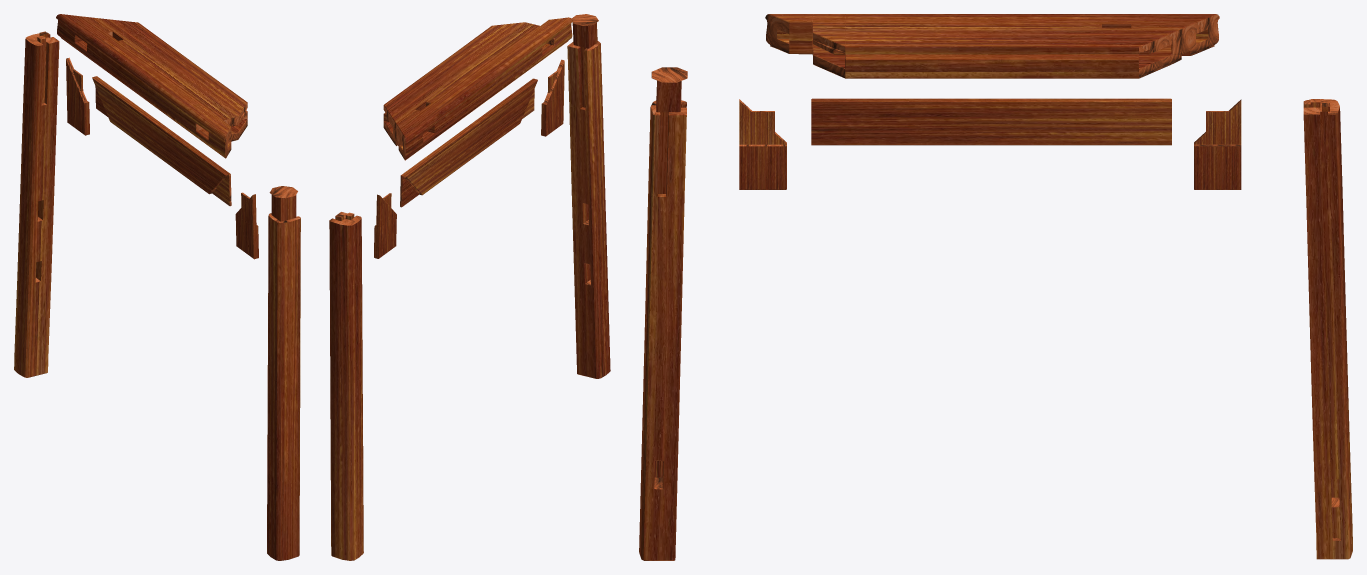
File: GMY_J_motou_02.FBX
3 renders of one model, left to right at view 1: azimuth 30°, elevation 25°; view 2: azimuth 150°, elevation 25°; view 3: azimuth 270°, elevation 25°, orthographic. The views are drawn at different scales.
Visible parts, largest first — view 1: GMY_J_houtui_02, GMY_J_qiantui_02, GMY_J_motou_02, GMY_J_houyatou_02_02, GMY_J_ceyatou_02_01, GMY_J_ceyatou_02_02; view 2: GMY_J_houtui_02, GMY_J_qiantui_02, GMY_J_motou_02, GMY_J_houyatou_02_02, GMY_J_ceyatou_02_02, GMY_J_ceyatou_02_01; view 3: GMY_J_motou_02, GMY_J_houtui_02, GMY_J_houyatou_02_02, GMY_J_qiantui_02, GMY_J_ceyatou_02_01, GMY_J_ceyatou_02_02.
Part boxes in pixels (x1,y1,x2,y2): GMY_J_houtui_02: (267, 186, 300, 560); GMY_J_qiantui_02: (14, 31, 59, 377); GMY_J_motou_02: (56, 14, 247, 158); GMY_J_houyatou_02_02: (92, 76, 231, 206); GMY_J_ceyatou_02_01: (66, 57, 89, 135); GMY_J_ceyatou_02_02: (235, 192, 258, 259); GMY_J_houtui_02: (567, 14, 610, 378); GMY_J_qiantui_02: (329, 212, 363, 560); GMY_J_motou_02: (383, 17, 573, 160); GMY_J_houyatou_02_02: (400, 78, 537, 207); GMY_J_ceyatou_02_02: (541, 59, 564, 136); GMY_J_ceyatou_02_01: (374, 193, 396, 258); GMY_J_motou_02: (765, 14, 1219, 78); GMY_J_houtui_02: (639, 67, 687, 560); GMY_J_houyatou_02_02: (811, 98, 1171, 145); GMY_J_qiantui_02: (1303, 99, 1352, 559); GMY_J_ceyatou_02_01: (1194, 99, 1241, 189); GMY_J_ceyatou_02_02: (739, 99, 786, 189).
Size of the model in its own units: 8.14 by 57.65 by 70.46.
